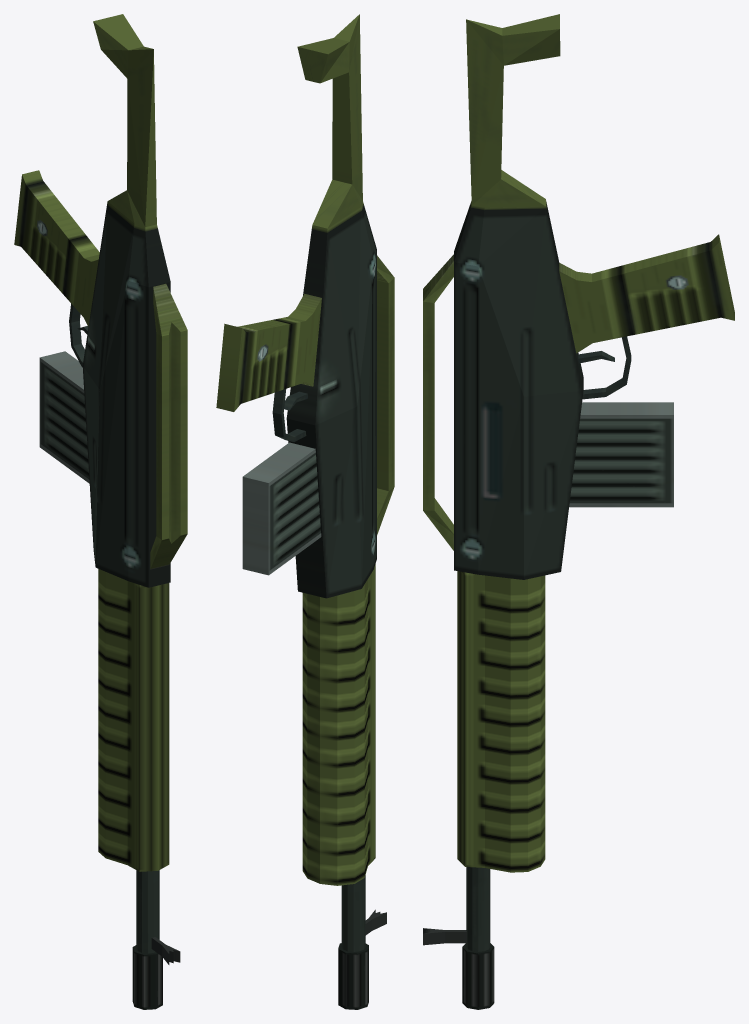
File: marinerifle350_wtf.obj
3 views of the same model, side by side, from view 1: azimuth 30°, elevation 25°; view 2: azimuth 150°, elevation 25°; view 3: azimuth 270°, elevation 25° (orthographic). The views are drawn at different scales.
Parts seen in each view (by area): view 1: group1; view 2: group1; view 3: group1.
Boxes of the visible parts, x1=… form: group1: x1=14, y1=14, x2=187, y2=1009; group1: x1=216, y1=14, x2=394, y2=1009; group1: x1=423, y1=14, x2=734, y2=1009.
Bounding box in the file's own units: 43.34 × 660 × 190.
